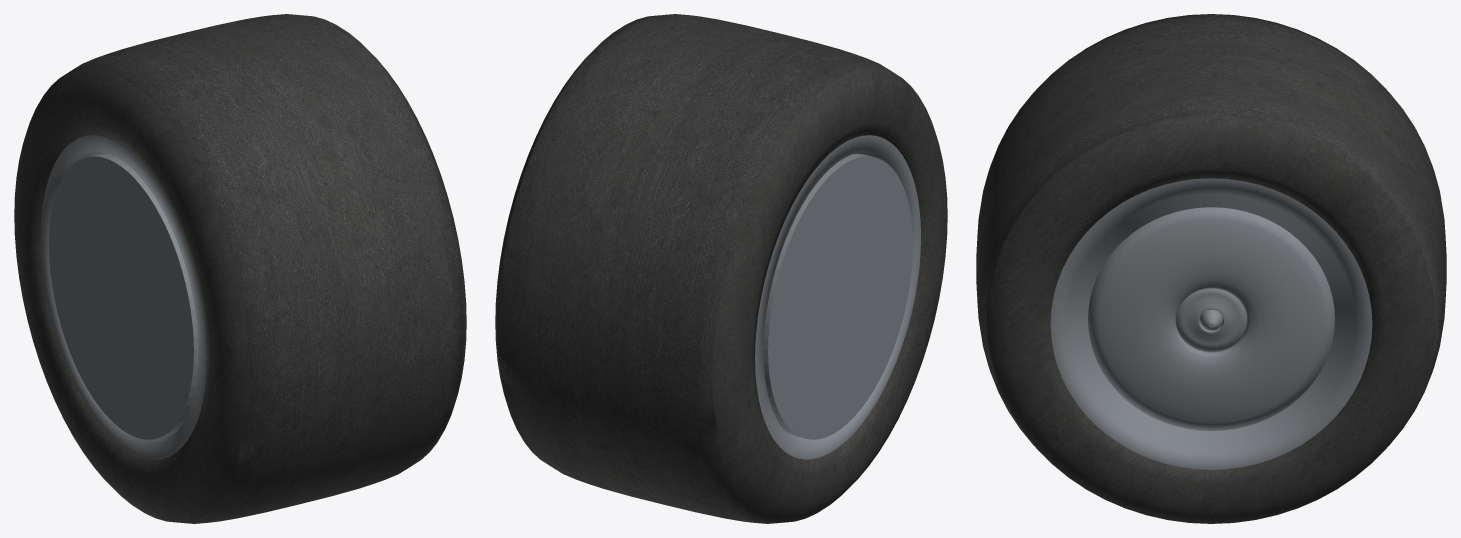
The model's file is f1_2026_2008_wheel_rear.glb.
3 views of the same model, side by side, from view 1: azimuth 30°, elevation 25°; view 2: azimuth 150°, elevation 25°; view 3: azimuth 270°, elevation 25° (orthographic). The views are drawn at different scales.
Parts seen in each view (by area): view 1: GEO_WHEEL_TIRE, GEO_WHEEL_HUB; view 2: GEO_WHEEL_TIRE, GEO_WHEEL_HUB; view 3: GEO_WHEEL_TIRE, GEO_WHEEL_HUB.
Boxes of the visible parts, x1,y1,x2,y2 form: GEO_WHEEL_TIRE: (14,14,466,523); GEO_WHEEL_HUB: (41,135,206,459); GEO_WHEEL_TIRE: (495,14,947,523); GEO_WHEEL_HUB: (755,135,920,459); GEO_WHEEL_TIRE: (976,14,1446,523); GEO_WHEEL_HUB: (1050,178,1372,469).
Size of the model in its own units: 0.38 by 0.66 by 0.66.
Materials: 2 (1 with a texture image).
